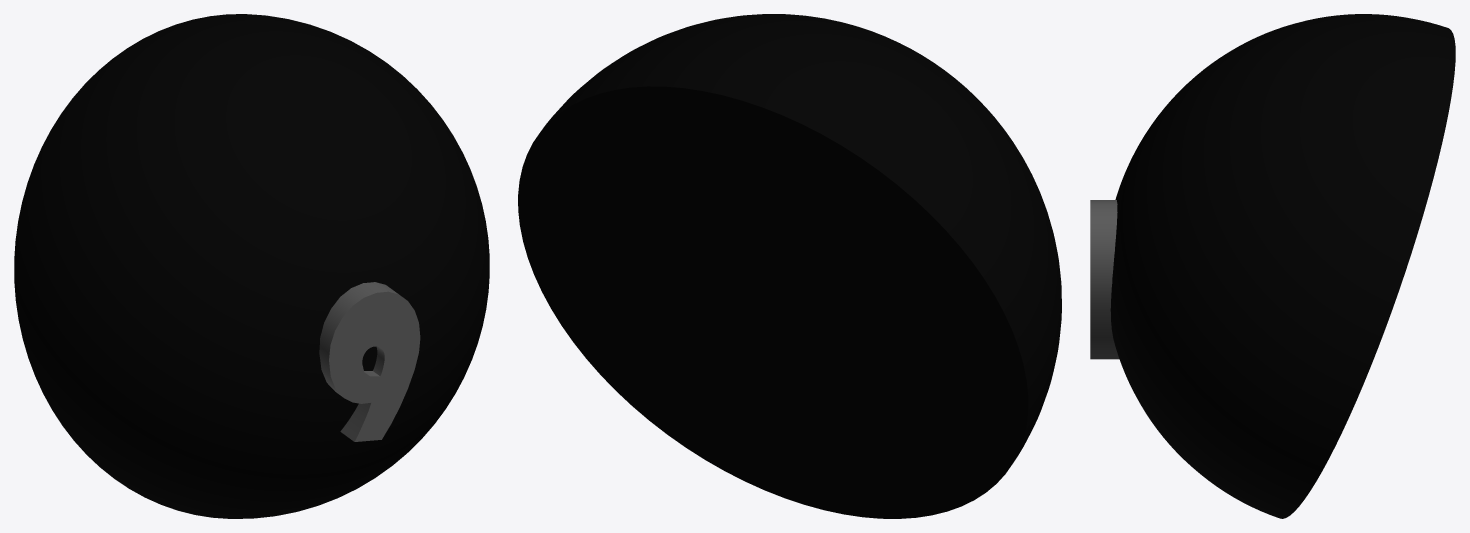
The model's file is button9.fbx.
3 views of the same model, side by side, from view 1: azimuth 30°, elevation 25°; view 2: azimuth 150°, elevation 25°; view 3: azimuth 270°, elevation 25° (orthographic). The views are drawn at different scales.
Visible parts, largest first — view 1: root, node_id166; view 2: root; view 3: root, node_id166.
Boxes of the visible parts, x1,y1,x2,y2 form: root: (14, 14, 489, 518); node_id166: (319, 282, 420, 441); root: (518, 14, 1061, 518); root: (1110, 14, 1455, 518); node_id166: (1090, 200, 1119, 359).
Size of the model in its own units: 0.2 by 0.1936 by 0.141.
2 materials, 1 textured.
